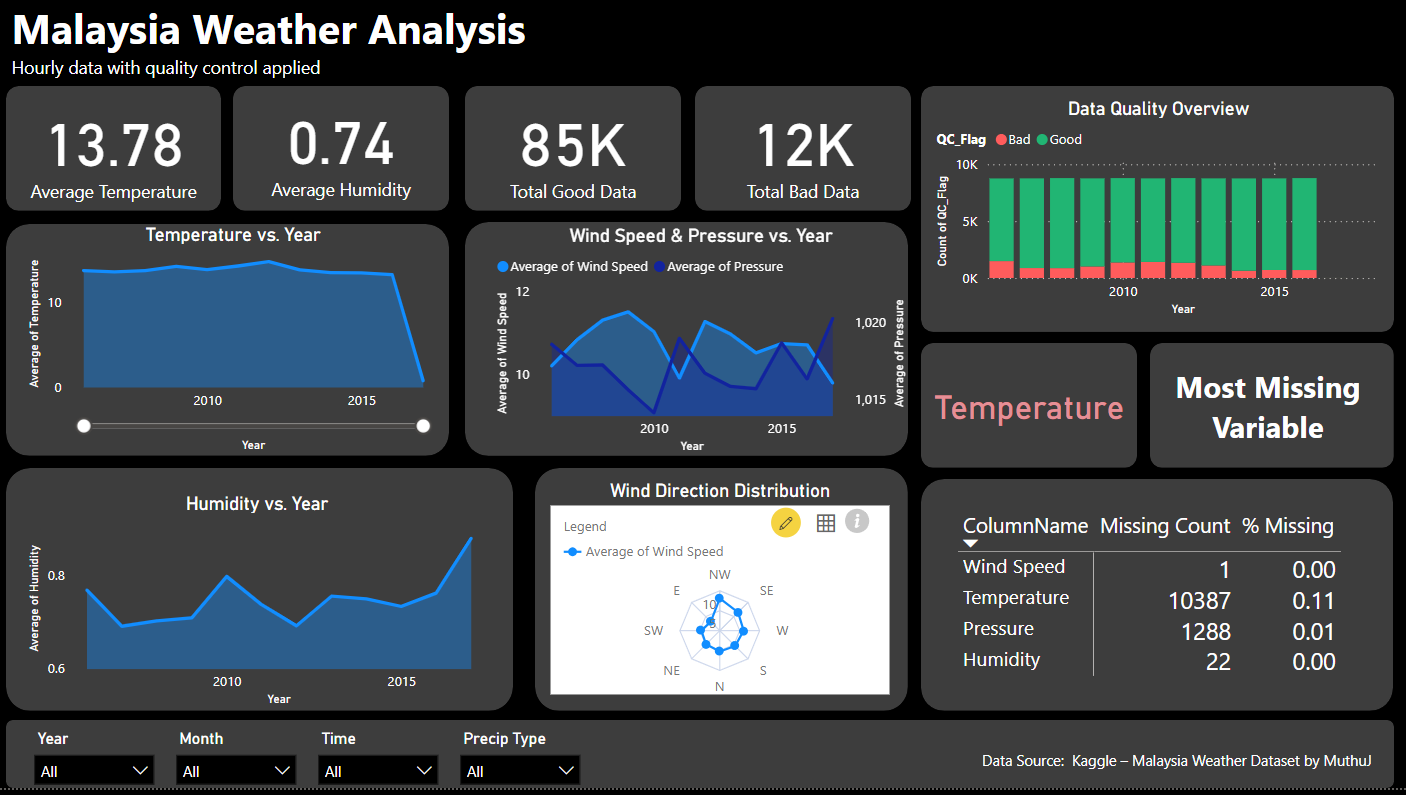

The dashboard page shown, as its layout file describes it:
{"tool":"powerbi","page":{"name":"Page 1","canvas":[1280,720],"ordinal":0},"visuals":[{"type":"shape","box":[839.5,439.6,428.5,223.5],"z":0},{"type":"shape","box":[215.8,83.4,195.9,113.4],"z":1000},{"type":"textbox","box":[10,0,658.3,68],"z":2000},{"type":"textbox","box":[10,52.6,303.8,30.8],"z":3000},{"type":"textbox","box":[897.7,681,370.9,31.7],"z":4000},{"type":"shape","box":[10,83.4,195,113.4],"z":5000},{"type":"card","fields":{"Values":["Avg(weather_clean.Average Temperature)"]},"box":[10,83.4,195,113.4],"z":6000},{"type":"card","fields":{"Values":["weather_clean.Average Humidity"]},"box":[215.8,81.6,195.9,113.4],"z":7000},{"type":"shape","box":[426.2,83.4,195.9,113.4],"z":8000},{"type":"shape","box":[634.8,83.4,195.9,113.4],"z":9000},{"type":"card","fields":{"Values":["weather_clean.Total Good Data"]},"box":[426.2,83.4,195.9,113.4],"z":10000},{"type":"card","fields":{"Values":["weather_clean.Total Bad Data"]},"box":[839.7,312.8,195.9,113.4],"z":11000},{"type":"shape","box":[10,673.8,1258.6,39],"z":12000},{"type":"shape","box":[10,208.6,401.7,210.4],"z":13000},{"type":"areaChart","title":"Temperature vs. Year","fields":{"Y":["Avg(weather_clean.Temperature)"],"Category":["weather_clean.DateTime.Variation.Date Hierarchy.Year"]},"box":[25.4,207.7,380.9,212.2],"z":14000},{"type":"shape","box":[426.2,206.8,401.7,212.2],"z":15000},{"type":"lineChart","title":"Wind Speed & Pressure vs. Year","fields":{"Category":["weather_clean.DateTime.Variation.Date Hierarchy.Year"],"Y":["Avg(weather_clean.Wind Speed)"],"Y2":["Avg(weather_clean.Pressure)"]},"box":[449.8,208.6,380.9,212.2],"z":16000},{"type":"shape","box":[839.7,83.4,428.9,223.1],"z":17000},{"type":"shape","box":[10,429.8,496,234],"z":18000},{"type":"shape","box":[1047.4,316.5,221.3,113.4],"z":19000},{"type":"shape","box":[839.7,316.5,195.9,113.4],"z":20000},{"type":"textbox","box":[1047.4,332.8,214,81.6],"z":21000},{"type":"pivotTable","fields":{"Values":["MissingColumns.Missing Count","MissingColumns.% Missing"],"Rows":["MissingColumns.ColumnName"]},"box":[880.1,485.8,359.2,163.5],"z":22000}]}

Visuals, with their boxes in screenshot pixels (x1, y1, x2, y2), scaled from the page's 1280x720 canvas onto the 1406x795 screenshot:
shape: 922/485/1393/732
shape: 237/92/452/217
textbox: 11/0/734/75
textbox: 11/58/345/92
textbox: 986/752/1393/787
shape: 11/92/225/217
card - Avg(weather_clean.Average Temperature): 11/92/225/217
card - weather_clean.Average Humidity: 237/90/452/215
shape: 468/92/683/217
shape: 697/92/912/217
card - weather_clean.Total Good Data: 468/92/683/217
card - weather_clean.Total Bad Data: 922/345/1138/471
shape: 11/744/1393/787
shape: 11/230/452/463
"Temperature vs. Year" areaChart: 28/229/446/464
shape: 468/228/909/463
"Wind Speed & Pressure vs. Year" lineChart: 494/230/912/465
shape: 922/92/1393/338
shape: 11/475/556/733
shape: 1151/349/1394/475
shape: 922/349/1138/475
textbox: 1151/367/1386/458
pivotTable - MissingColumns.Missing Count x MissingColumns.% Missing: 967/536/1361/717
